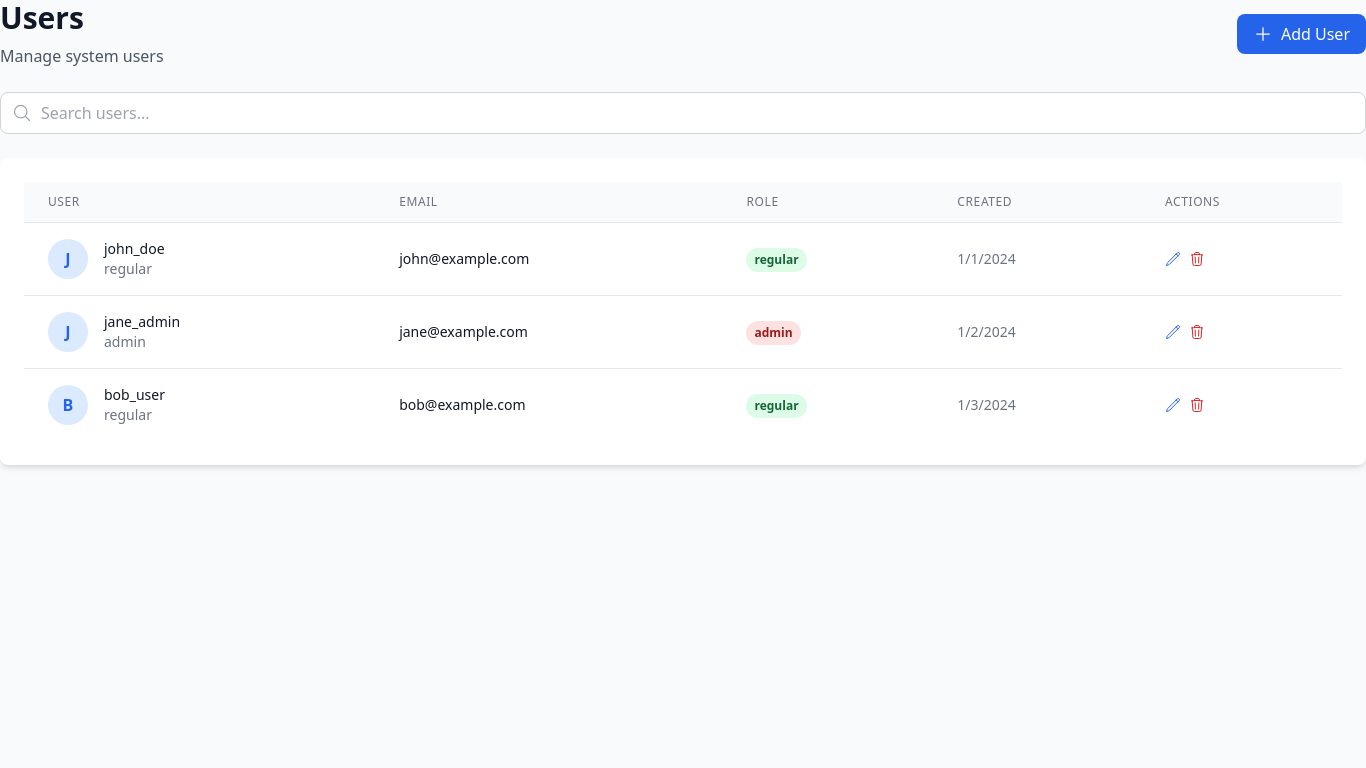
Test case: Users › CRUD Operations › opens edit user modal when edit button is clicked
The image size is (1366, 768).
Click the 2nd button at coordinates (1173, 259), box x1=1165 y1=251 x2=1181 y2=267
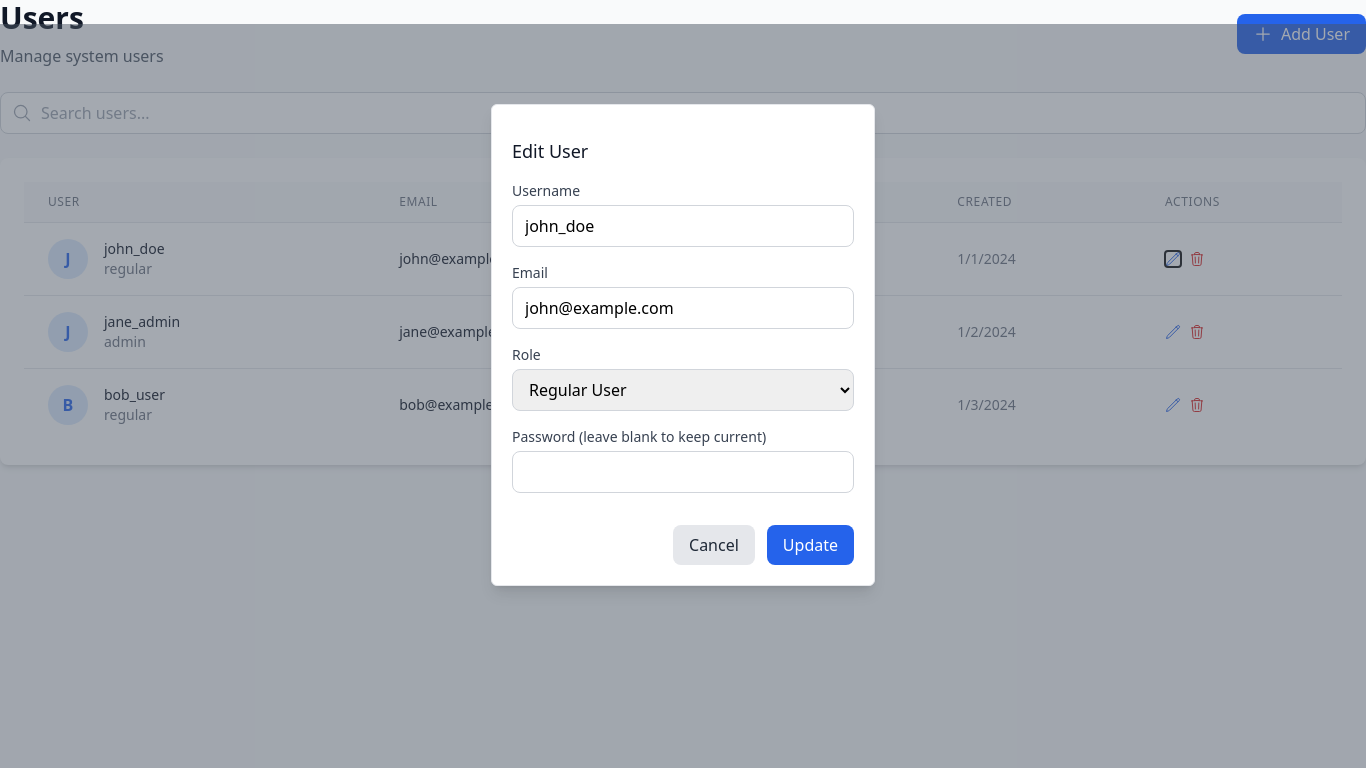
Expected: the heading "Edit User" is shown, x1=512 y1=139 x2=588 y2=163
Expected: the field showing "john_doe" below "Username" is shown, x1=512 y1=205 x2=854 y2=247
Expected: the 2nd field showing "john@example.com" is shown, x1=512 y1=287 x2=854 y2=329
